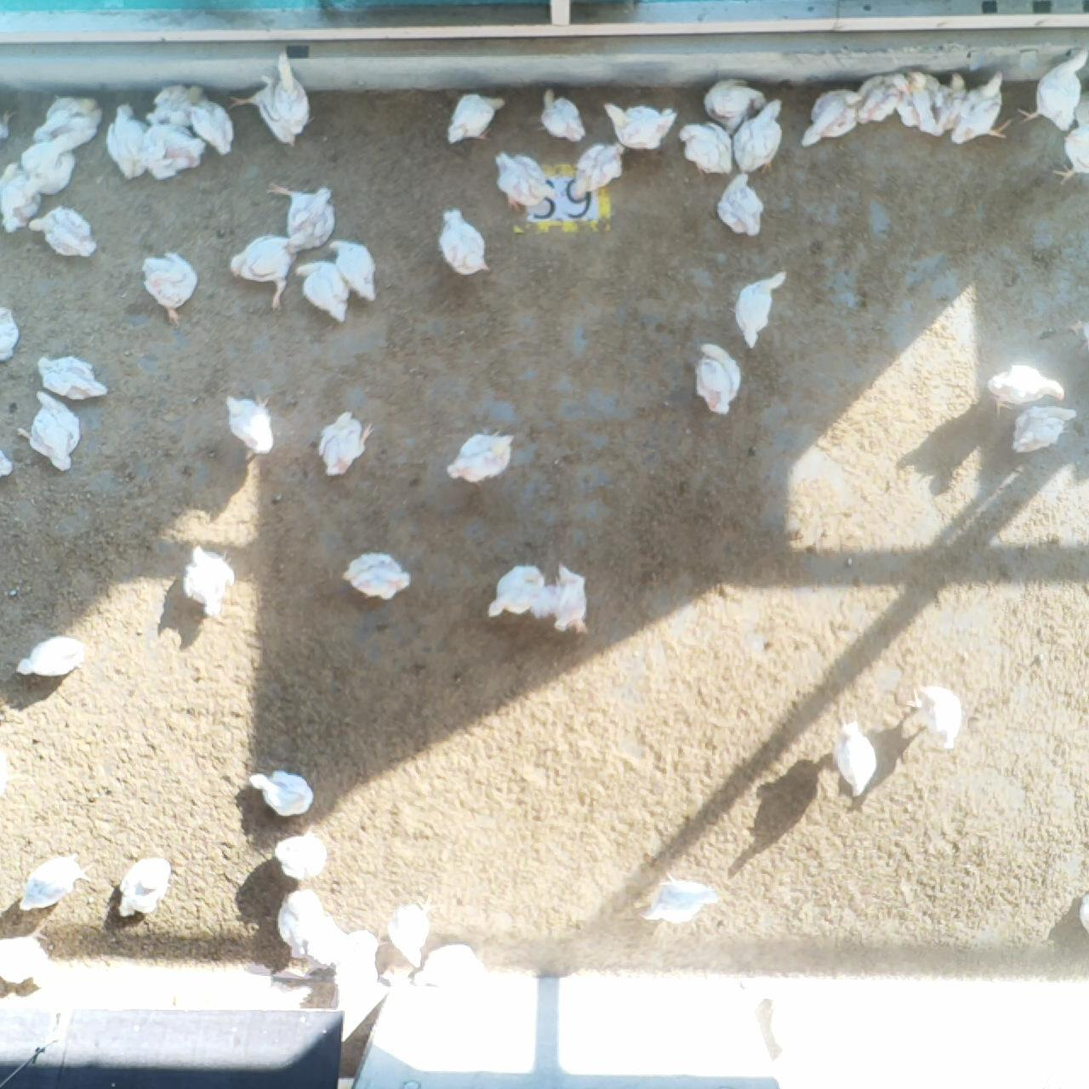chicken: (232, 52, 317, 146), (19, 391, 83, 476), (1019, 51, 1089, 127), (178, 542, 237, 624), (954, 70, 1020, 143), (138, 248, 201, 324), (228, 233, 293, 305), (986, 359, 1064, 417), (271, 186, 339, 250), (19, 852, 88, 914), (733, 271, 784, 354), (117, 855, 173, 927), (1, 924, 63, 988), (693, 341, 745, 417), (316, 413, 374, 480), (444, 431, 513, 487), (20, 129, 77, 196), (434, 208, 490, 276), (147, 120, 202, 189), (104, 104, 152, 183), (731, 102, 786, 170), (482, 564, 547, 621), (27, 206, 99, 257), (799, 88, 860, 148), (568, 140, 626, 203), (641, 879, 717, 927), (341, 551, 412, 602), (324, 915, 377, 983), (493, 151, 556, 208), (677, 120, 738, 177), (225, 391, 279, 455), (914, 682, 964, 751), (36, 95, 105, 145), (835, 719, 877, 801), (544, 564, 591, 637), (1012, 401, 1077, 453), (249, 769, 315, 820), (295, 261, 350, 322), (33, 354, 110, 397), (188, 89, 242, 150), (855, 69, 909, 128), (1, 163, 45, 235), (329, 240, 379, 303), (604, 101, 674, 146), (425, 944, 485, 996), (389, 892, 427, 973), (14, 638, 90, 678), (901, 71, 947, 137), (704, 80, 777, 121), (721, 172, 767, 237), (447, 94, 505, 145), (934, 65, 975, 137), (278, 889, 323, 953), (1058, 105, 1089, 184), (538, 87, 585, 139), (277, 836, 332, 879), (157, 87, 206, 121), (1, 297, 23, 368), (1, 734, 14, 803), (1079, 886, 1089, 937), (1, 113, 14, 145), (1, 453, 14, 476)
